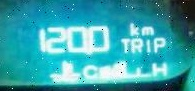-: (84, 48, 92, 57)
0: (88, 23, 112, 51), (65, 24, 88, 53)
1: (36, 26, 46, 55)
2: (46, 24, 65, 53)
X: (149, 60, 166, 77), (152, 35, 166, 54), (81, 63, 98, 78), (130, 36, 141, 53), (119, 36, 129, 53), (140, 24, 154, 35), (129, 20, 138, 36), (144, 36, 151, 53)
